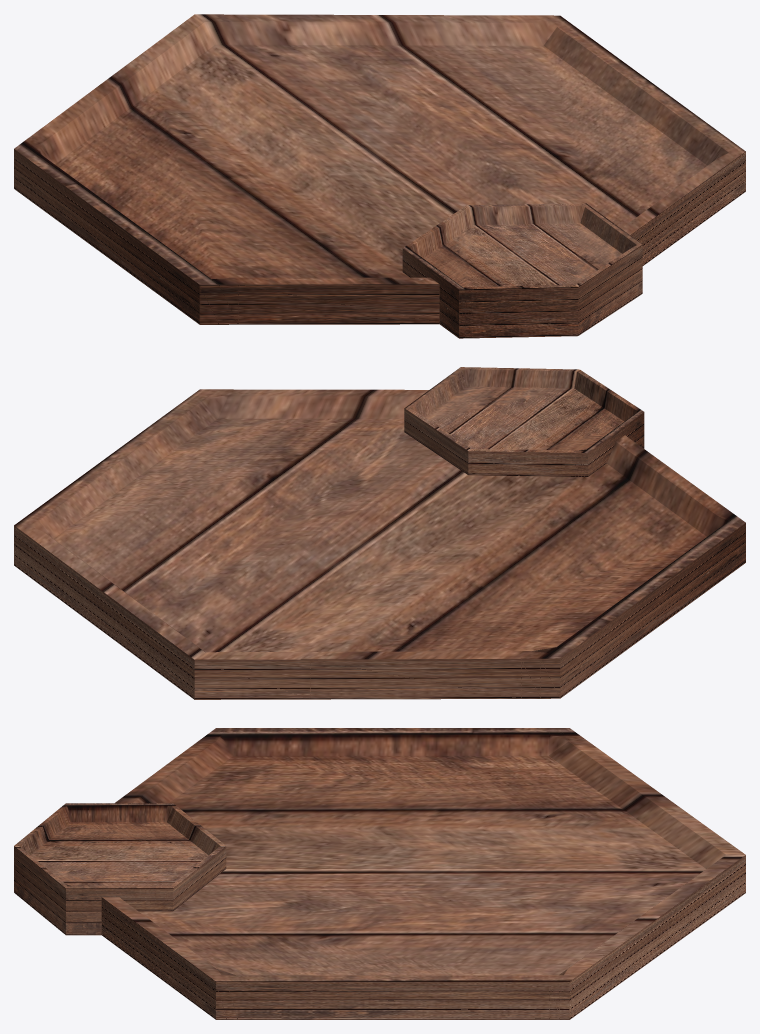
Rendered from BoardRepTemplate.fbx.
3 views of the same model, one above another, from view 1: azimuth 30°, elevation 25°; view 2: azimuth 150°, elevation 25°; view 3: azimuth 270°, elevation 25° (orthographic). The views are drawn at different scales.
Parts seen in each view (by area): view 1: PortraitBorder, PointValueBorder; view 2: PortraitBorder, PointValueBorder; view 3: PortraitBorder, PointValueBorder.
Boxes of the visible parts, x1=… form: PortraitBorder: x1=14, y1=14, x2=745, y2=324; PointValueBorder: x1=402, y1=203, x2=642, y2=338; PortraitBorder: x1=14, y1=389, x2=745, y2=699; PointValueBorder: x1=404, y1=367, x2=644, y2=476; PortraitBorder: x1=101, y1=728, x2=745, y2=1019; PointValueBorder: x1=14, y1=803, x2=226, y2=935.
Size of the model in its own units: 329 by 28.3 by 401.
